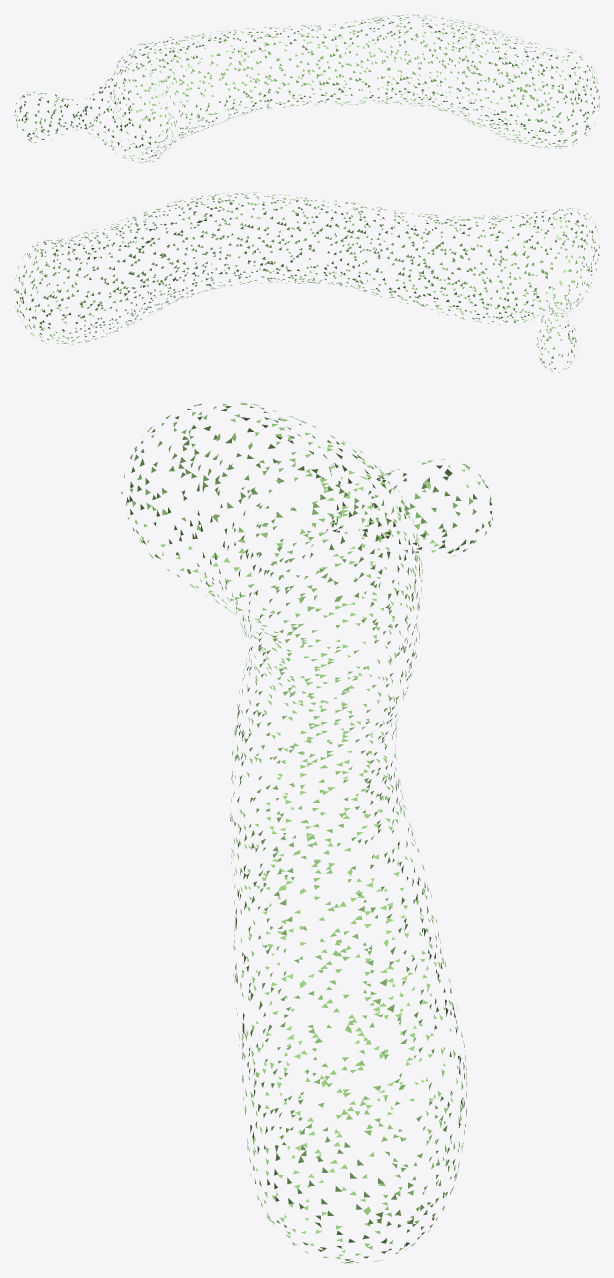
The model's file is morph_014.glb.
3 views of the same model, one above another, from view 1: azimuth 30°, elevation 25°; view 2: azimuth 150°, elevation 25°; view 3: azimuth 270°, elevation 25° (orthographic). The views are drawn at different scales.
Bounding box in the file's own units: 130 × 47.9 × 38.49.
